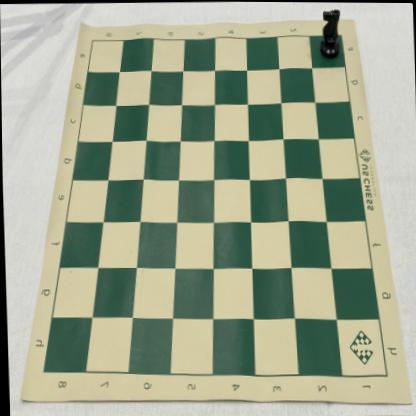black-knight: (317, 8, 342, 58)
